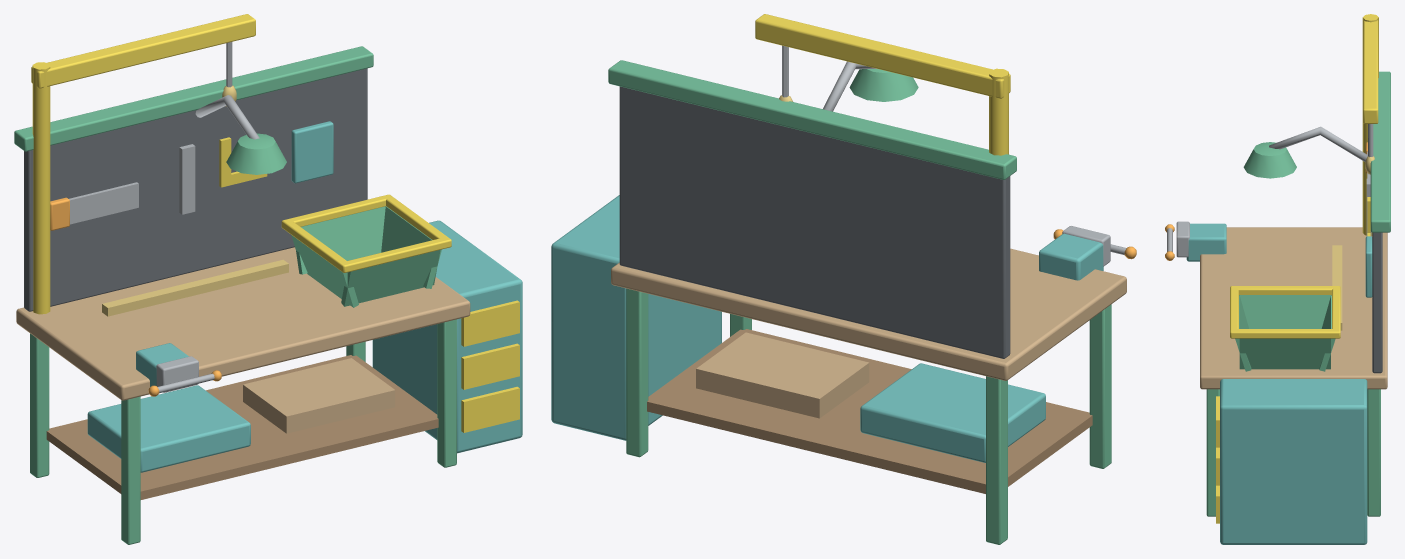
Rendered from machine_workbench.fbx.
The picture shows the model from 3 angles, left to right: view 1: azimuth 30°, elevation 25°; view 2: azimuth 150°, elevation 25°; view 3: azimuth 270°, elevation 25°; orthographic projection. The views are drawn at different scales.
Parts seen in each view (by area): view 1: machine_workbench, Upgrade_Lvl1, CrankPivot; view 2: machine_workbench, Upgrade_Lvl1; view 3: machine_workbench, Upgrade_Lvl1.
Boxes of the visible parts, x1,y1,x2,y2 form: machine_workbench: [14, 46, 470, 544]; Upgrade_Lvl1: [31, 14, 522, 453]; CrankPivot: [148, 370, 221, 396]; machine_workbench: [608, 60, 1126, 544]; Upgrade_Lvl1: [551, 14, 1010, 440]; machine_workbench: [1176, 71, 1390, 516]; Upgrade_Lvl1: [1216, 14, 1378, 544].
Bounding box in the file's own units: 2.51 × 2.38 × 1.35.
